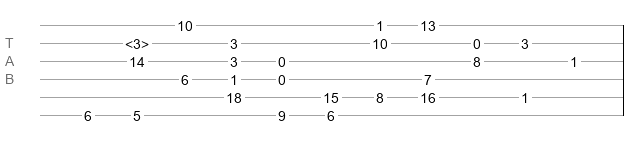0: (278, 54, 286, 64), (278, 72, 286, 82), (473, 36, 481, 46)
1: (230, 72, 238, 82), (376, 18, 384, 28), (521, 90, 529, 100), (570, 54, 578, 64)
10: (177, 18, 193, 28), (372, 36, 388, 46)
13: (420, 18, 436, 28)
14: (129, 54, 145, 64)
15: (323, 90, 339, 100)
16: (420, 90, 436, 100)
18: (226, 90, 242, 100)
3: (230, 54, 238, 64), (230, 36, 238, 46), (521, 36, 529, 46)
5: (133, 108, 141, 118)
6: (84, 108, 92, 118), (181, 72, 189, 82), (327, 108, 335, 118)
7: (424, 72, 432, 82)
8: (376, 90, 384, 100), (473, 54, 481, 64)
9: (278, 108, 286, 118)
harmonic: (125, 36, 149, 46)
